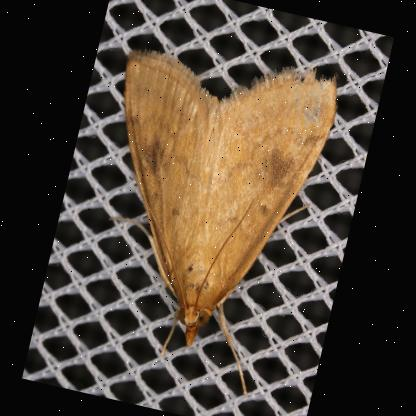Asian Corn Borer Moth: (55, 23, 350, 407)
